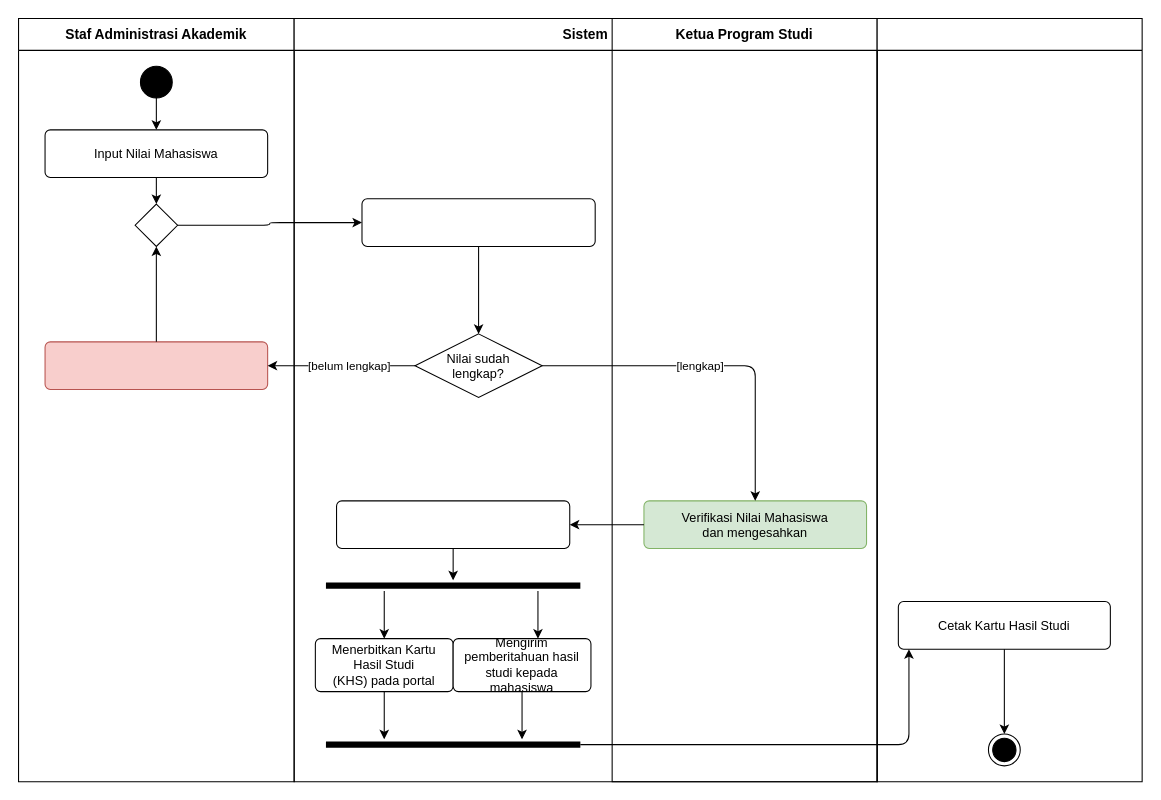
Image size: 1161x800. Some labels were removed from this diagram. The shapes that lost their labels are listed below. From the top down, each one's box as (x1, y1, x2, y2) in pixels, then its label:
(361, 198, 595, 246): Menyimpan data nilai mahasiswa
(44, 341, 268, 390): Melengkapi dan memperbaiki nilai mahasiswa yang belum lengkap
(876, 17, 1142, 782): Mahasiswa
(335, 500, 570, 549): Menyiapkan publikasi hasil studi
